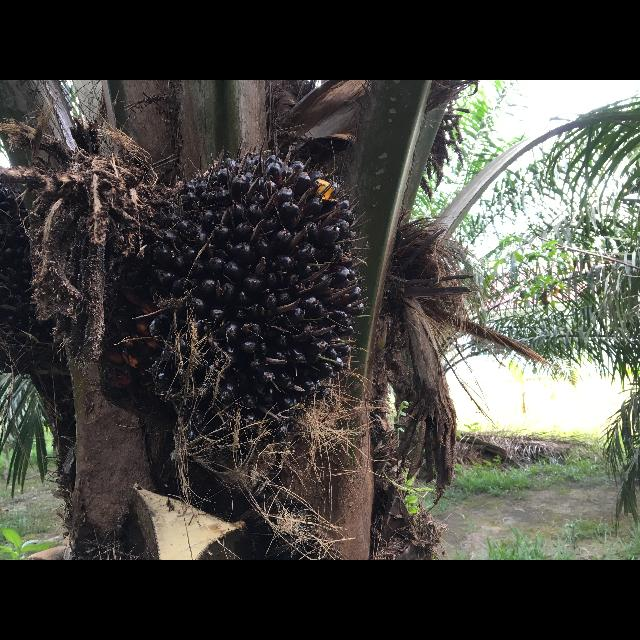Unripe: (153, 148, 366, 439)
